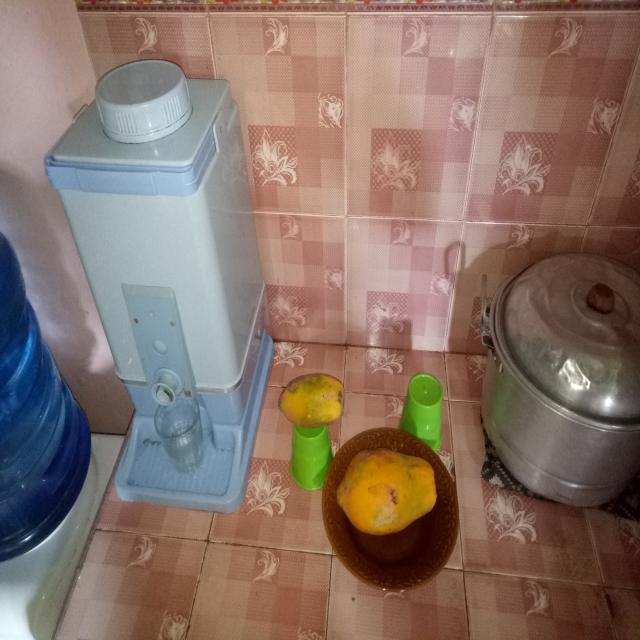Pepaya rippen: (336, 452, 442, 537), (276, 364, 347, 434)
